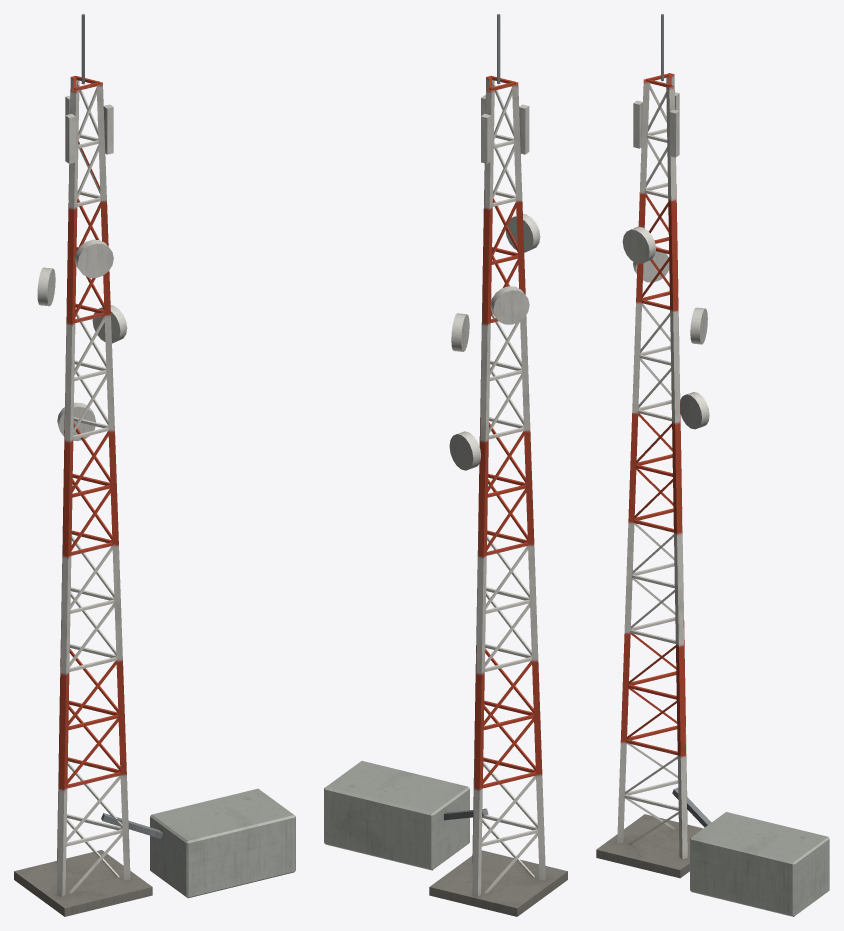
File: relay-mast.fbx
3 views of the same model, side by side, from view 1: azimuth 30°, elevation 25°; view 2: azimuth 150°, elevation 25°; view 3: azimuth 330°, elevation 25° (orthographic). The views are drawn at different scales.
Parts seen in each view (by area): view 1: relay-mast; view 2: relay-mast; view 3: relay-mast.
Boxes of the visible parts, bbox=[...] form: relay-mast: bbox=[14, 14, 295, 916]; relay-mast: bbox=[324, 14, 567, 916]; relay-mast: bbox=[596, 14, 829, 916].
Bounding box in the file's own units: 1120 × 4262 × 563.
Materials: 1 (1 with a texture image).
